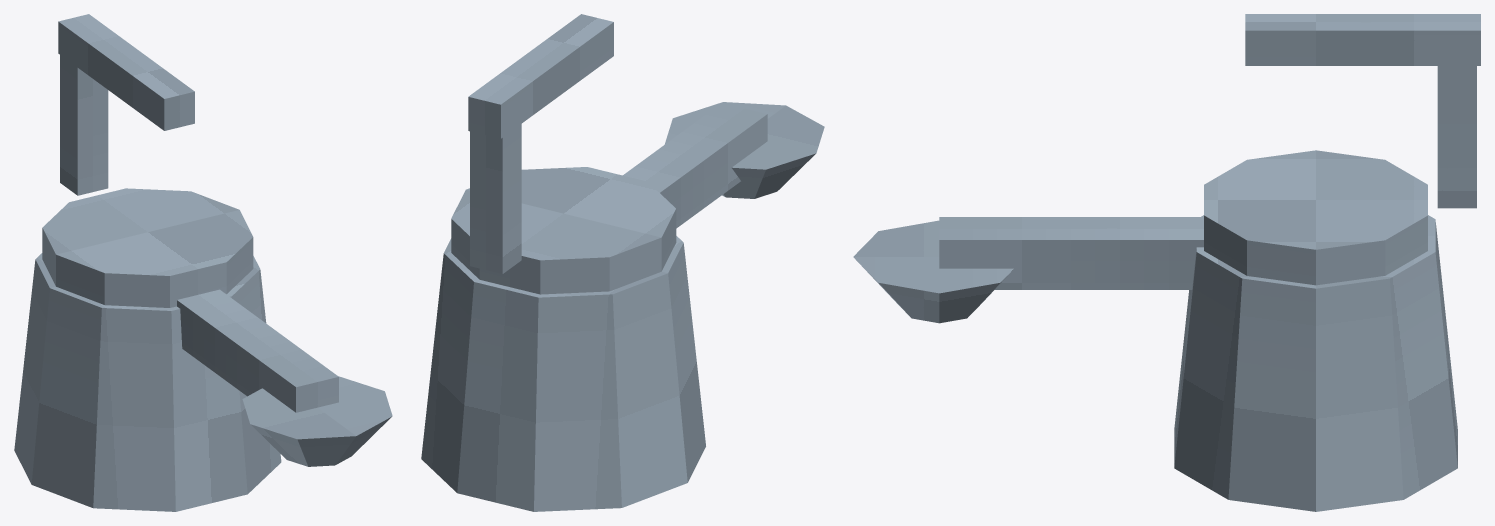
The model's file is pixel-modern-farm-watering-can-a11454ba__29147.glb.
3 views of the same model, side by side, from view 1: azimuth 30°, elevation 25°; view 2: azimuth 150°, elevation 25°; view 3: azimuth 270°, elevation 25° (orthographic). The views are drawn at different scales.
Visible parts, largest first — view 1: watering-can; view 2: watering-can; view 3: watering-can.
Part boxes in pixels (x1,y1,x2,y2): watering-can: (14,14,392,511); watering-can: (421,14,824,511); watering-can: (853,14,1480,511).
Size of the model in its own units: 0.38 by 0.6 by 0.8.
1 material, 1 textured.
